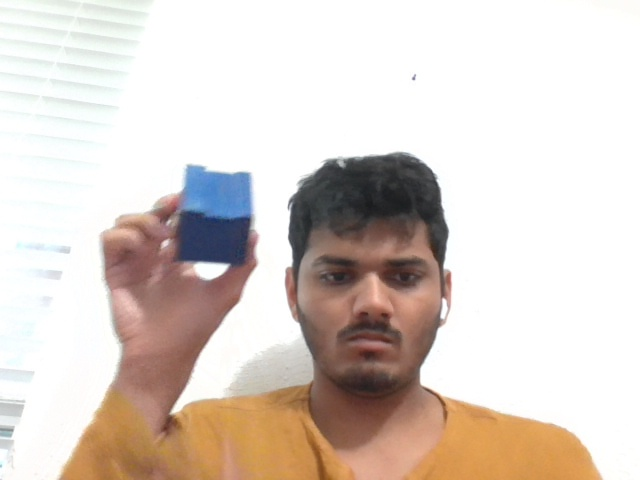BlueBlock: (175, 165, 251, 264)
